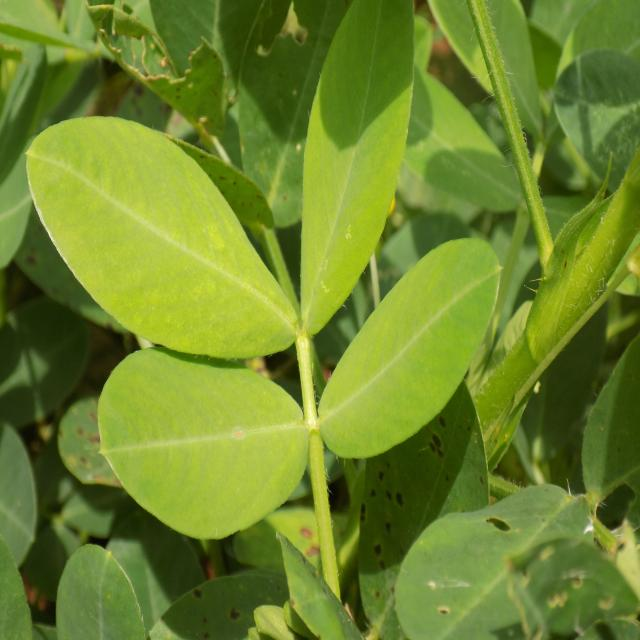Ground nut_healthy: (25, 111, 300, 359), (99, 342, 312, 546), (323, 242, 505, 456), (299, 0, 411, 333)
